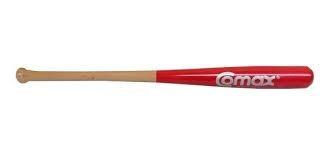Baseball-Bat: (16, 66, 314, 88)
